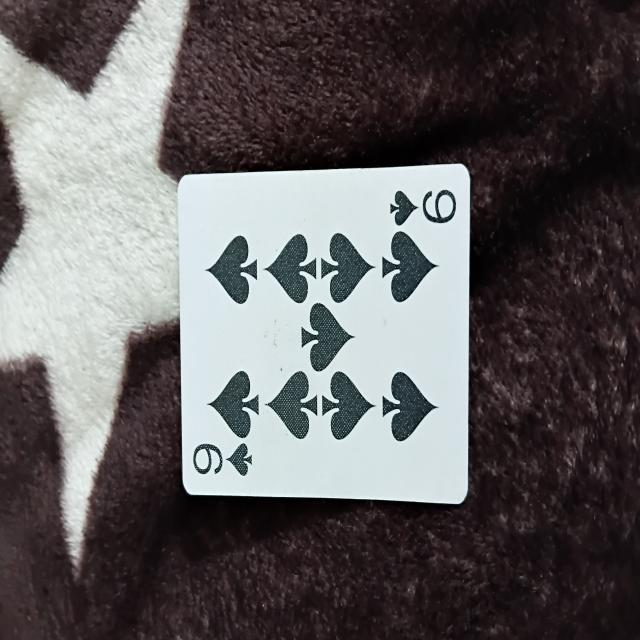9S: (176, 178, 466, 501)
